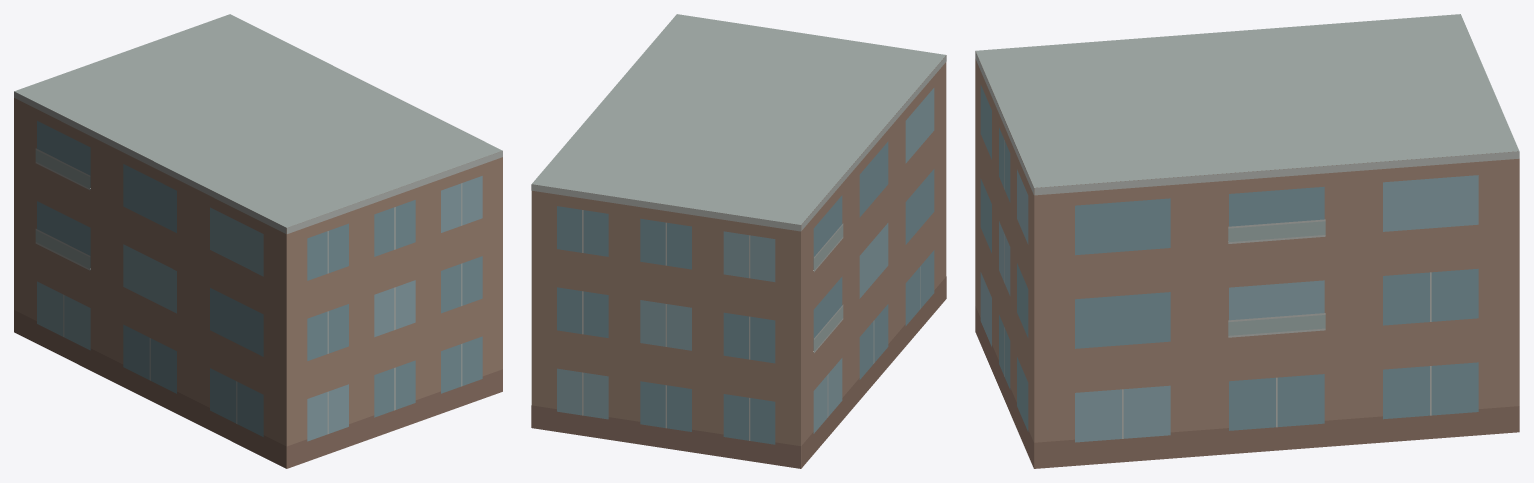
The model's file is survey-upis-32708122.glb.
3 views of the same model, side by side, from view 1: azimuth 30°, elevation 25°; view 2: azimuth 150°, elevation 25°; view 3: azimuth 270°, elevation 25° (orthographic). The views are drawn at different scales.
Visible parts, largest first — view 1: survey-upis-32708122.tmp; view 2: survey-upis-32708122.tmp; view 3: survey-upis-32708122.tmp.
Part boxes in pixels (box(x1,y1,x2,y2)): survey-upis-32708122.tmp: box(14, 14, 502, 468); survey-upis-32708122.tmp: box(531, 14, 946, 468); survey-upis-32708122.tmp: box(975, 14, 1519, 468).
Bounding box in the file's own units: 12.16 × 9.15 × 16.07.
